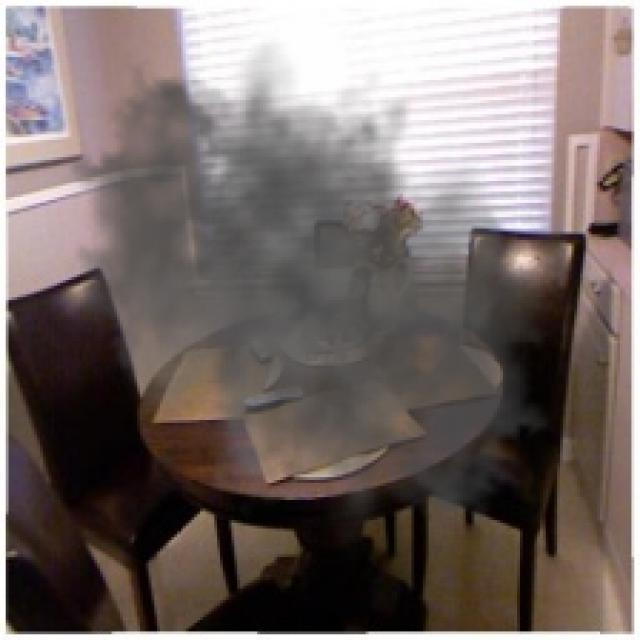Smoke: (34, 37, 586, 554)
